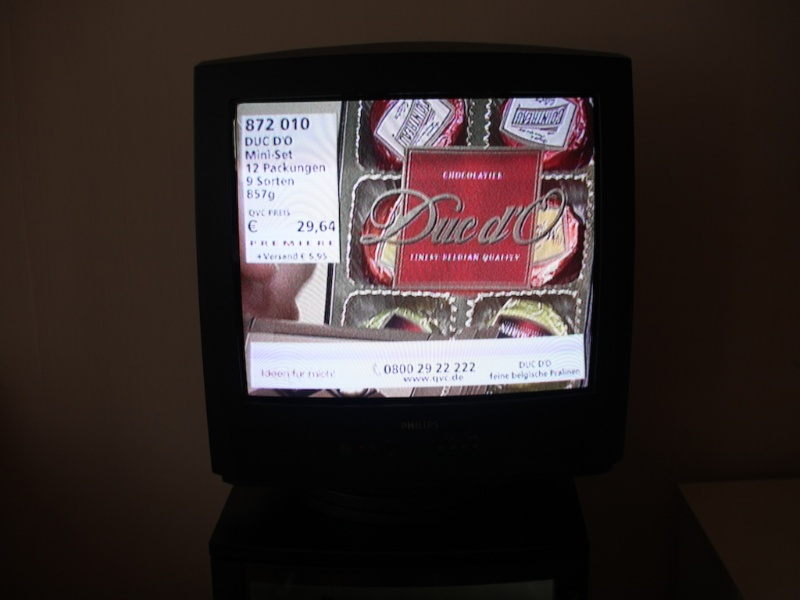tv: (185, 37, 639, 474)
